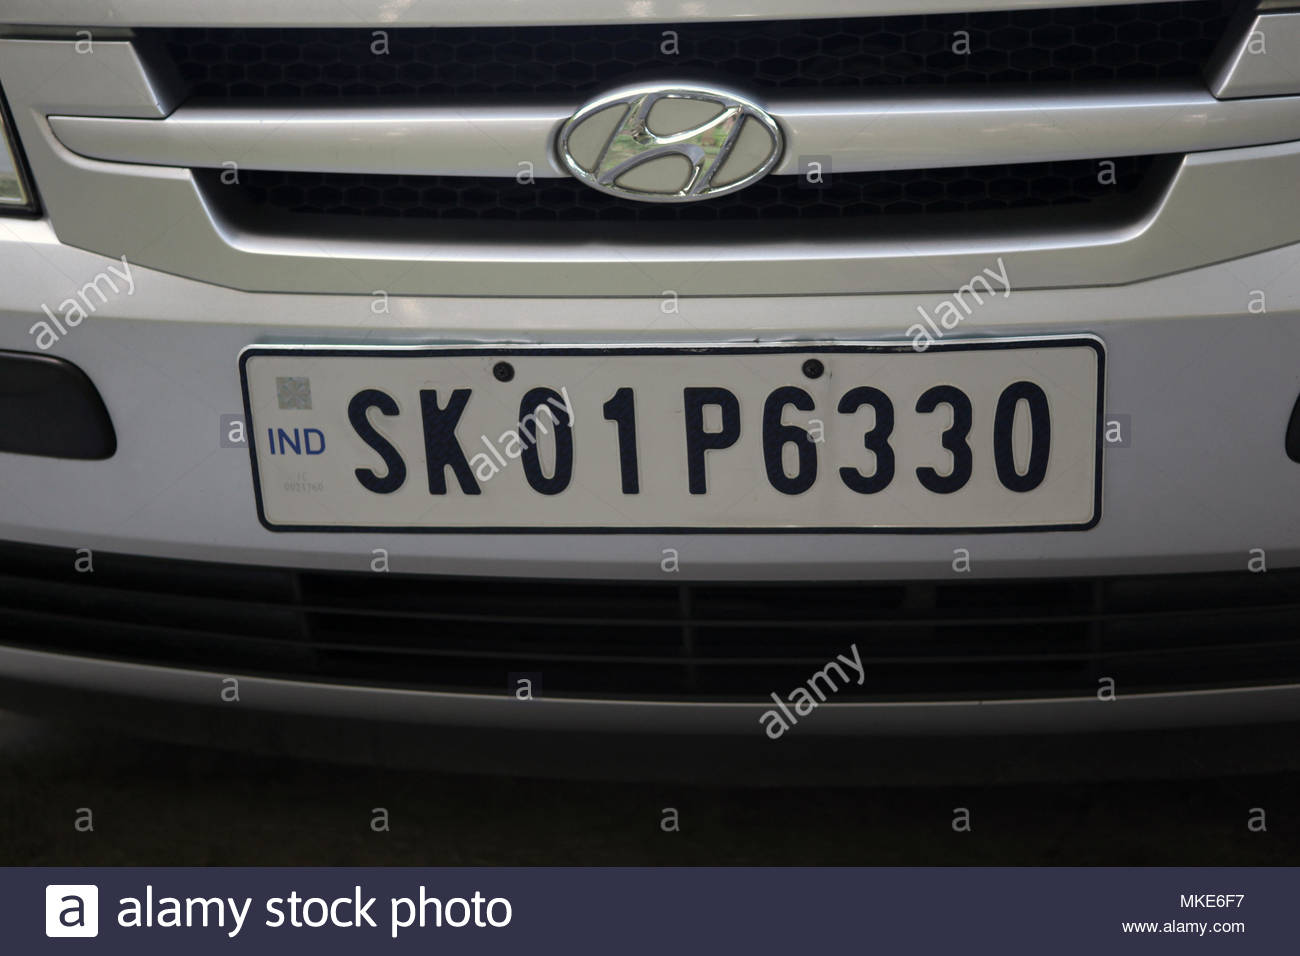numberplate: (237, 340, 1108, 534)
